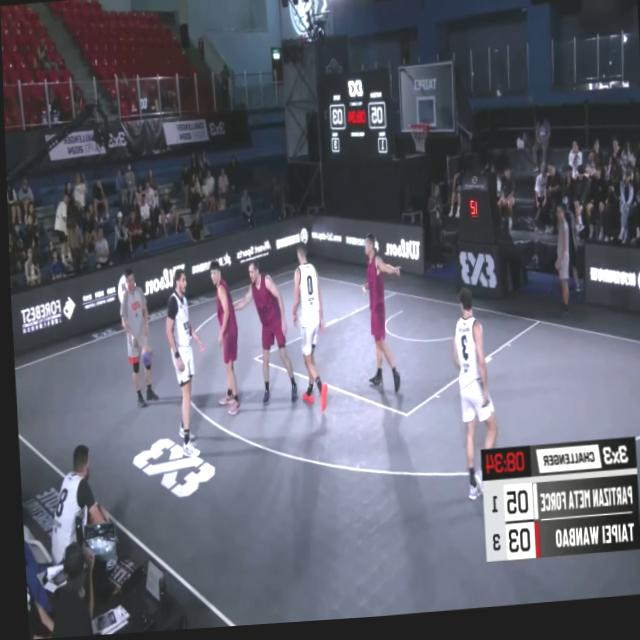ball: (135, 338, 153, 372)
hoop: (406, 123, 431, 162)
player: (446, 286, 497, 514), (234, 258, 289, 418), (160, 269, 205, 454), (355, 238, 403, 404), (283, 251, 323, 416), (204, 262, 236, 419)
